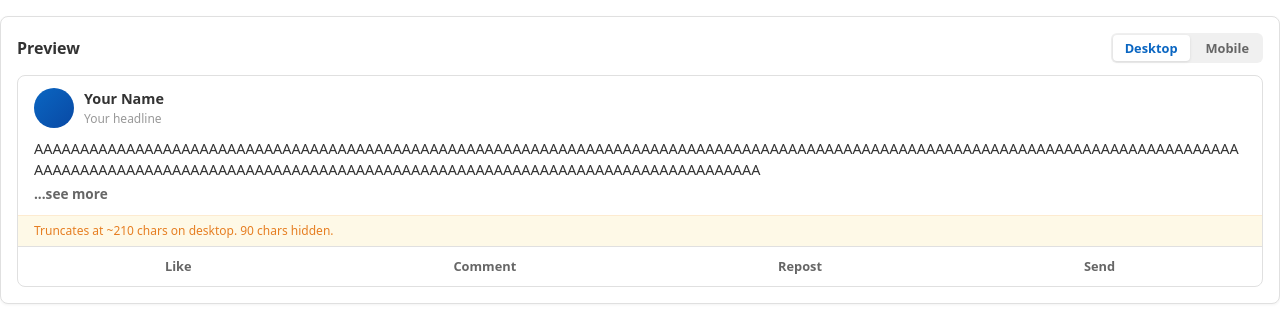
Test case: PostPreview › shows "see more" button that expands text
The image size is (1280, 321).
Click the button "...see more" at (71, 194), box 34,184 -> 108,203
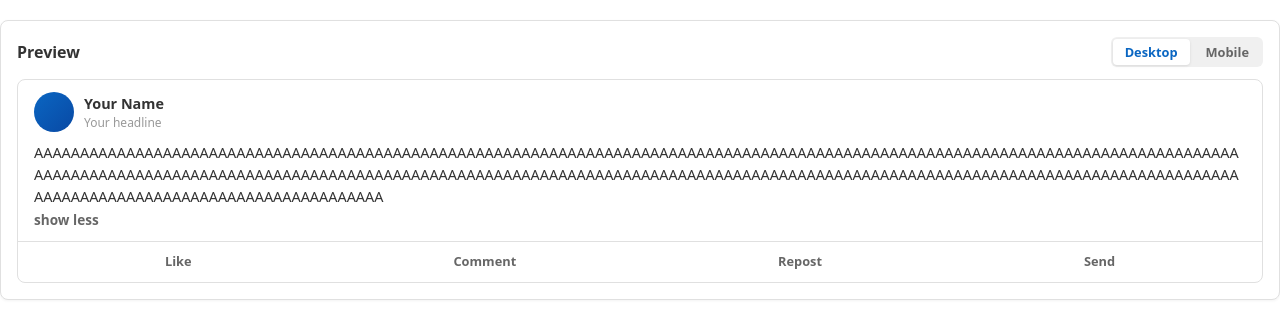
Expected: the button "show less" is shown, 34,210 -> 99,229
